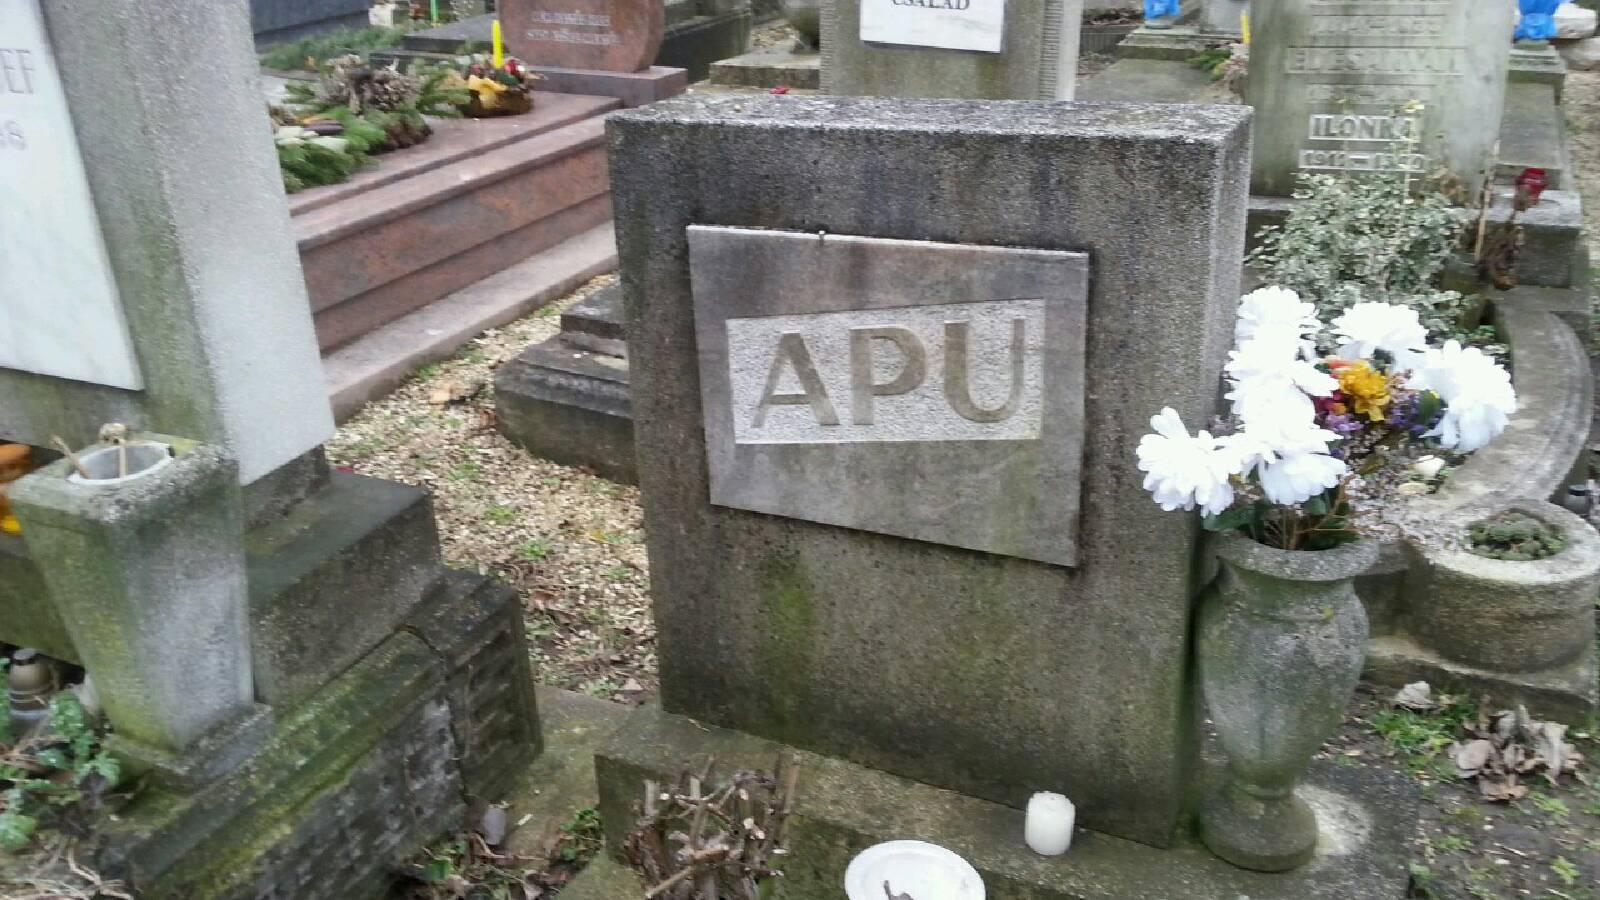upright: (559, 62, 1351, 827)
